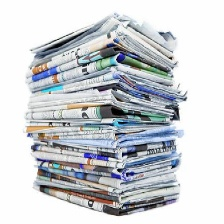news_paper: (22, 13, 193, 217)
